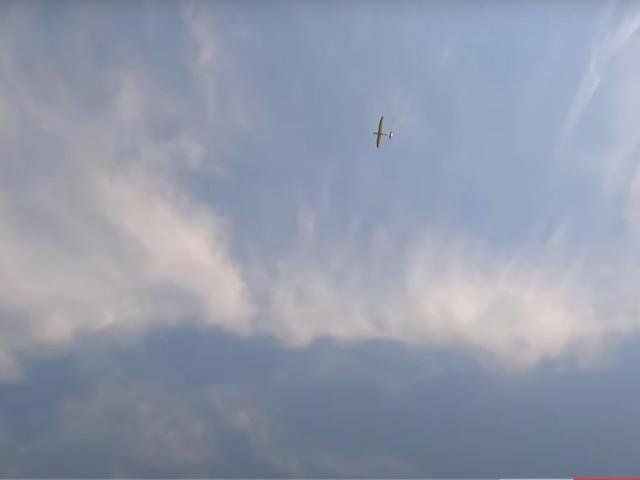iha: (370, 113, 395, 147)
